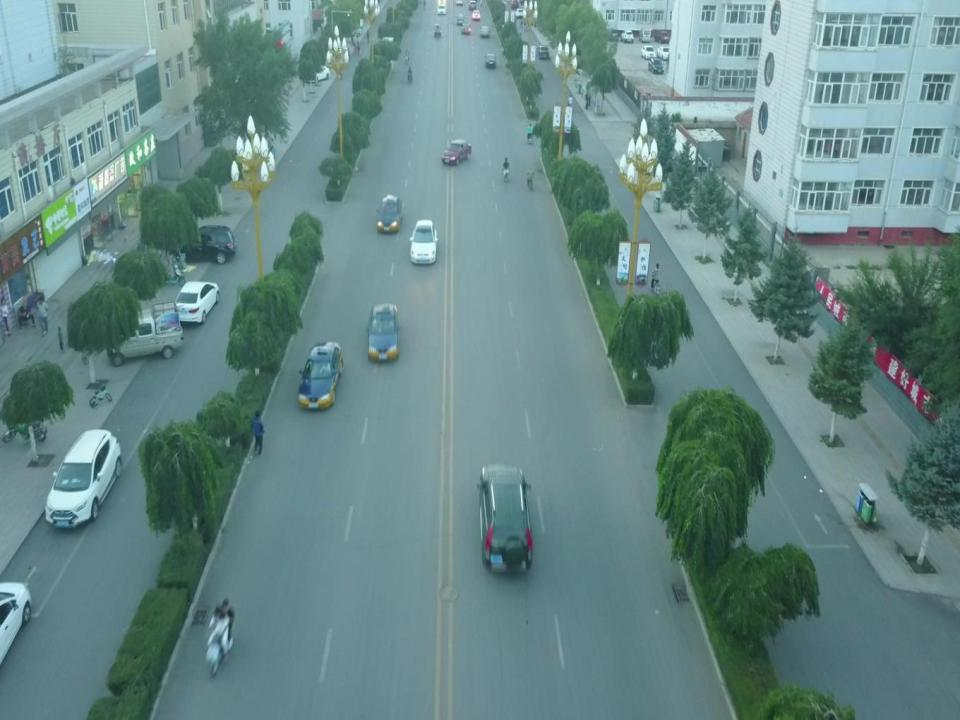car: (474, 464, 536, 579), (45, 428, 119, 524), (294, 344, 343, 413), (172, 222, 234, 266), (1, 580, 30, 668), (172, 280, 220, 324), (366, 303, 400, 361), (408, 218, 440, 264), (374, 195, 402, 232), (441, 139, 472, 166), (647, 57, 668, 74), (640, 44, 656, 60), (484, 52, 498, 70), (536, 44, 550, 61), (656, 44, 672, 58), (605, 26, 618, 42), (620, 30, 636, 42), (654, 30, 670, 42), (479, 25, 491, 37), (436, 5, 447, 16), (461, 22, 471, 34), (471, 9, 481, 19), (510, 0, 518, 9)
truck: (106, 301, 182, 367)
van: (638, 26, 651, 42)
